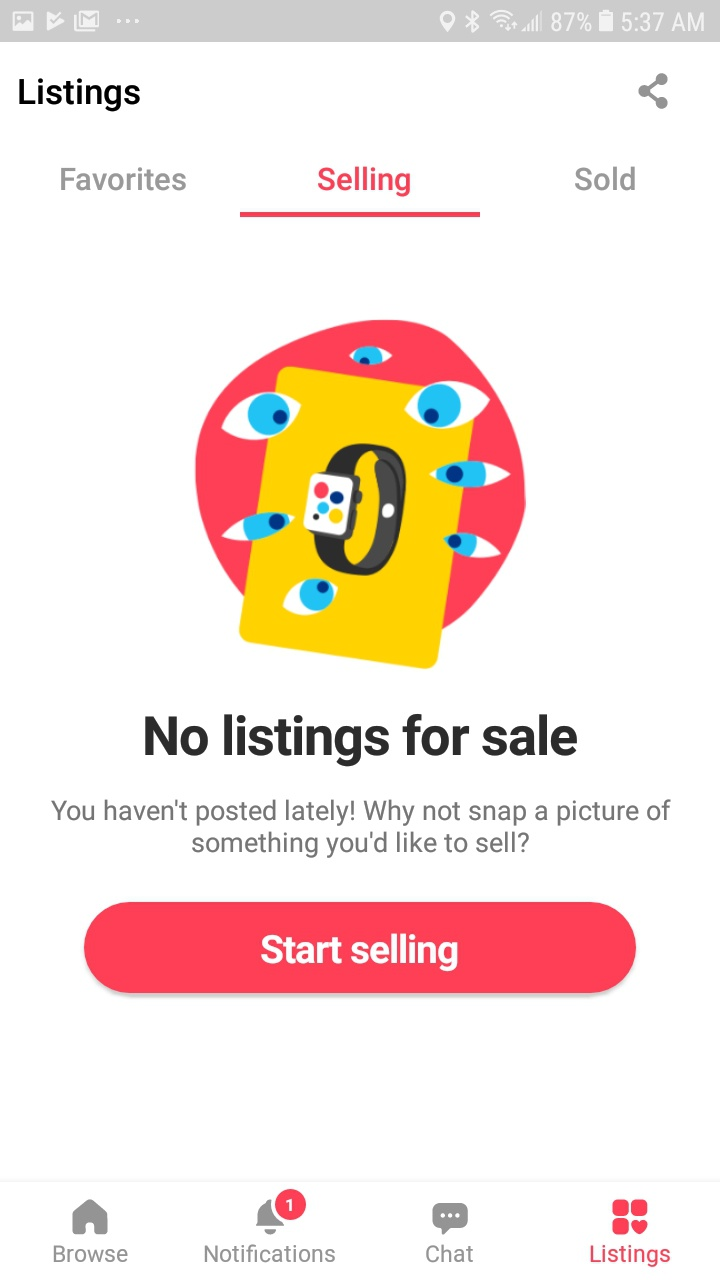Icon: (255, 1189, 307, 1236), (611, 1198, 648, 1236), (72, 1198, 109, 1235), (432, 1203, 469, 1236), (638, 73, 669, 111)
Image: (195, 320, 526, 670)
Text: (51, 799, 672, 859), (145, 714, 578, 768), (19, 78, 141, 113), (62, 166, 188, 192), (317, 166, 411, 198), (204, 1243, 336, 1263), (589, 1244, 671, 1268), (574, 166, 636, 192), (54, 1244, 130, 1263), (425, 1243, 474, 1263)
TextButton: (84, 902, 637, 995)
UpperTaskBar: (1, 1, 720, 43)
